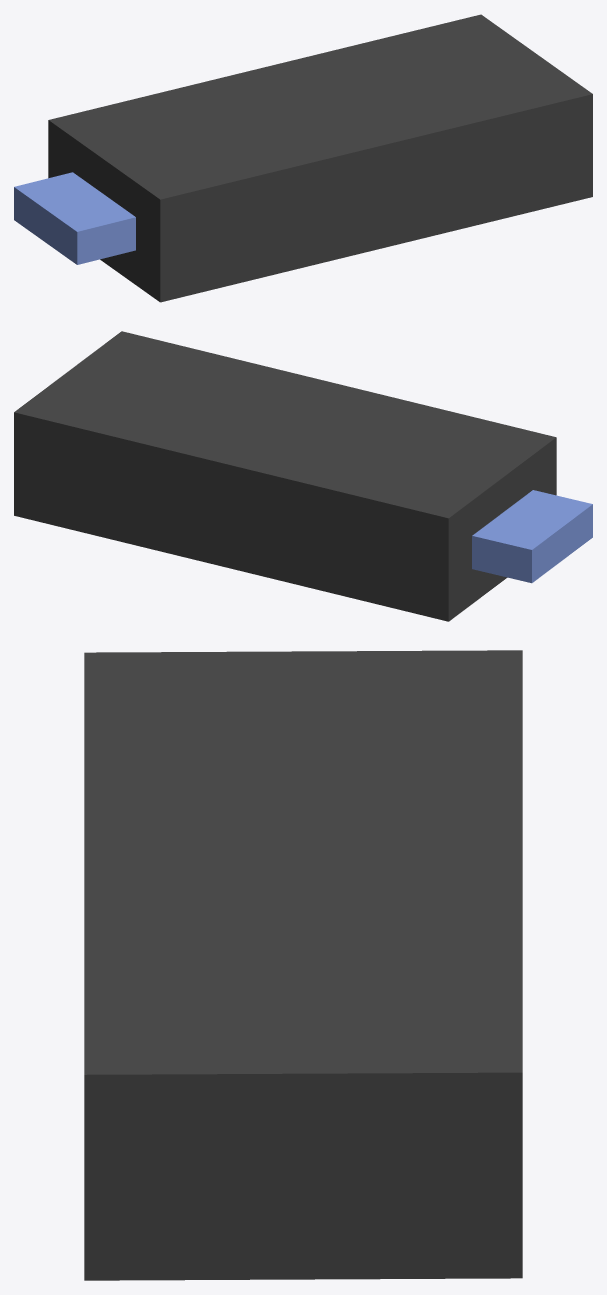
File: usb_flash_drive.fbx
The picture shows the model from 3 angles, top to bottom: view 1: azimuth 30°, elevation 25°; view 2: azimuth 150°, elevation 25°; view 3: azimuth 270°, elevation 25°; orthographic projection. The views are drawn at different scales.
Parts seen in each view (by area): view 1: usb_flash_drive; view 2: usb_flash_drive; view 3: usb_flash_drive.
Part boxes in pixels (x1,y1,x2,y2): usb_flash_drive: [14, 14, 592, 302]; usb_flash_drive: [14, 331, 592, 621]; usb_flash_drive: [84, 650, 522, 1280].
Bounding box in the file's own units: 0.0516 × 0.0103 × 0.0198.
